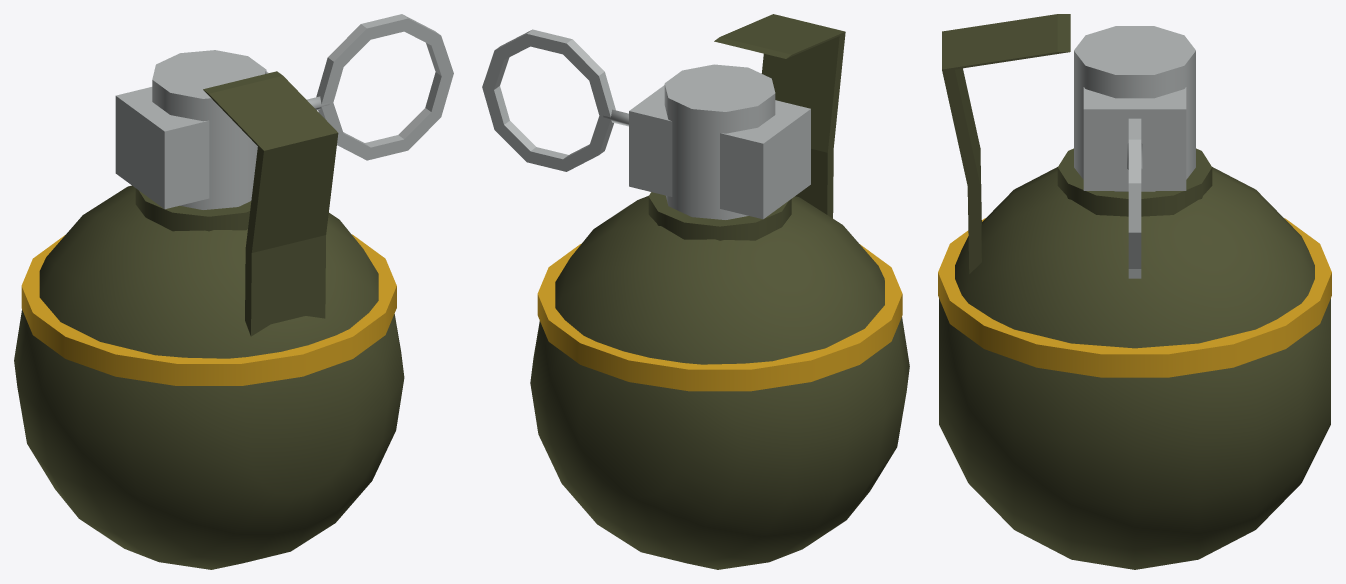
Rendered from frag.glb.
The picture shows the model from 3 angles, left to right: view 1: azimuth 30°, elevation 25°; view 2: azimuth 150°, elevation 25°; view 3: azimuth 270°, elevation 25°; orthographic projection. The views are drawn at different scales.
Visible parts, largest first — view 1: frag; view 2: frag; view 3: frag.
Boxes of the visible parts, left/top/right/bottom form: frag: left=14, top=14, right=453, bottom=569; frag: left=482, top=14, right=909, bottom=569; frag: left=938, top=14, right=1331, bottom=569.
Bounding box in the file's own units: 0.0775 × 0.0885 × 0.0612.
Materials: 1 (1 with a texture image).
